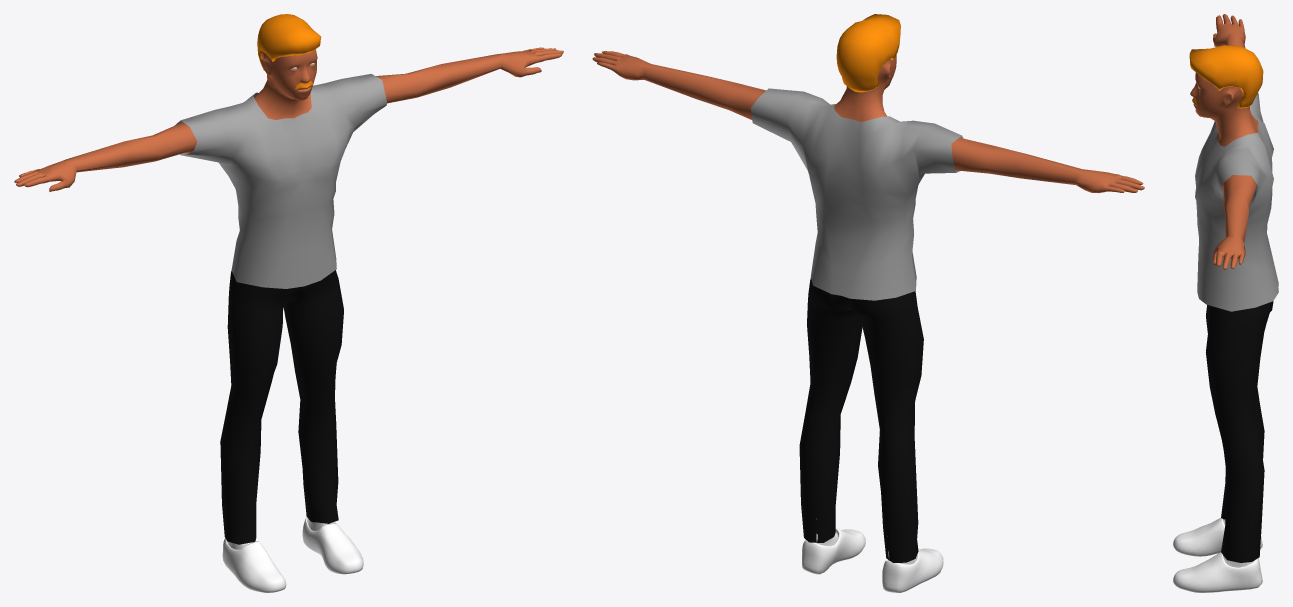
The model's file is Man 14.obj.
3 renders of one model, left to right at view 1: azimuth 30°, elevation 25°; view 2: azimuth 150°, elevation 25°; view 3: azimuth 270°, elevation 25°, orthographic. The views are drawn at different scales.
Parts seen in each view (by area): view 1: Human:Male1591.001, Human:Male1591.002, Human:Male1591, Human:Shoes05, Human:Male1591.004_Human:Male1591.003; view 2: Human:Male1591.001, Human:Male1591.002, Human:Male1591, Human:Shoes05, Human:Male1591.004_Human:Male1591.003; view 3: Human:Male1591.002, Human:Male1591.001, Human:Male1591, Human:Shoes05, Human:Male1591.004_Human:Male1591.003.
Part boxes in pixels (x1=…): Human:Male1591.001: x1=174, y1=74, x2=387, y2=288; Human:Male1591.002: x1=220, y1=270, x2=343, y2=544; Human:Male1591: x1=14, y1=47, x2=563, y2=191; Human:Shoes05: x1=222, y1=517, x2=363, y2=592; Human:Male1591.004_Human:Male1591.003: x1=257, y1=14, x2=321, y2=89; Human:Male1591.001: x1=750, y1=88, x2=963, y2=300; Human:Male1591.002: x1=799, y1=278, x2=923, y2=562; Human:Male1591: x1=592, y1=51, x2=1144, y2=193; Human:Shoes05: x1=802, y1=518, x2=943, y2=592; Human:Male1591.004_Human:Male1591.003: x1=836, y1=14, x2=900, y2=92; Human:Male1591.002: x1=1206, y1=301, x2=1273, y2=562; Human:Male1591.001: x1=1195, y1=93, x2=1278, y2=311; Human:Male1591: x1=1190, y1=14, x2=1258, y2=269; Human:Shoes05: x1=1173, y1=518, x2=1262, y2=592; Human:Male1591.004_Human:Male1591.003: x1=1189, y1=45, x2=1263, y2=108.
Bounding box in the file's own units: 19.93 × 19.06 × 3.51.
